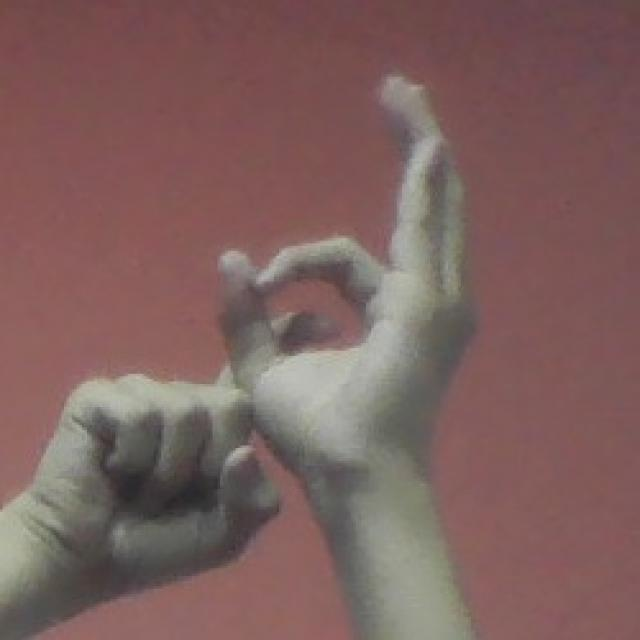Alphabet-Q: (14, 44, 487, 616)
